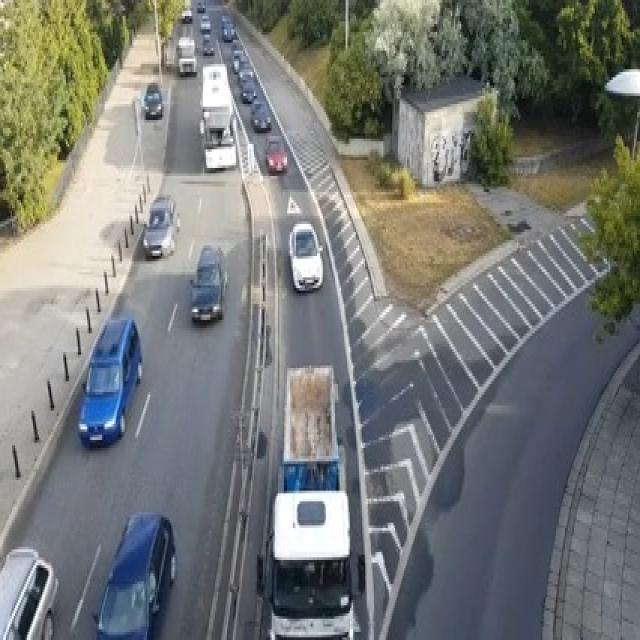car: (257, 488, 359, 637), (91, 510, 176, 638), (76, 315, 142, 448), (0, 544, 59, 637), (189, 242, 227, 322), (288, 221, 323, 291), (141, 194, 179, 258), (264, 134, 287, 174), (176, 34, 197, 74), (141, 83, 162, 117), (250, 98, 270, 130), (232, 48, 250, 72), (240, 80, 256, 101), (237, 67, 254, 85), (202, 32, 214, 53), (221, 21, 234, 40), (200, 13, 210, 32), (180, 8, 192, 21), (221, 13, 231, 24), (196, 0, 204, 11)
